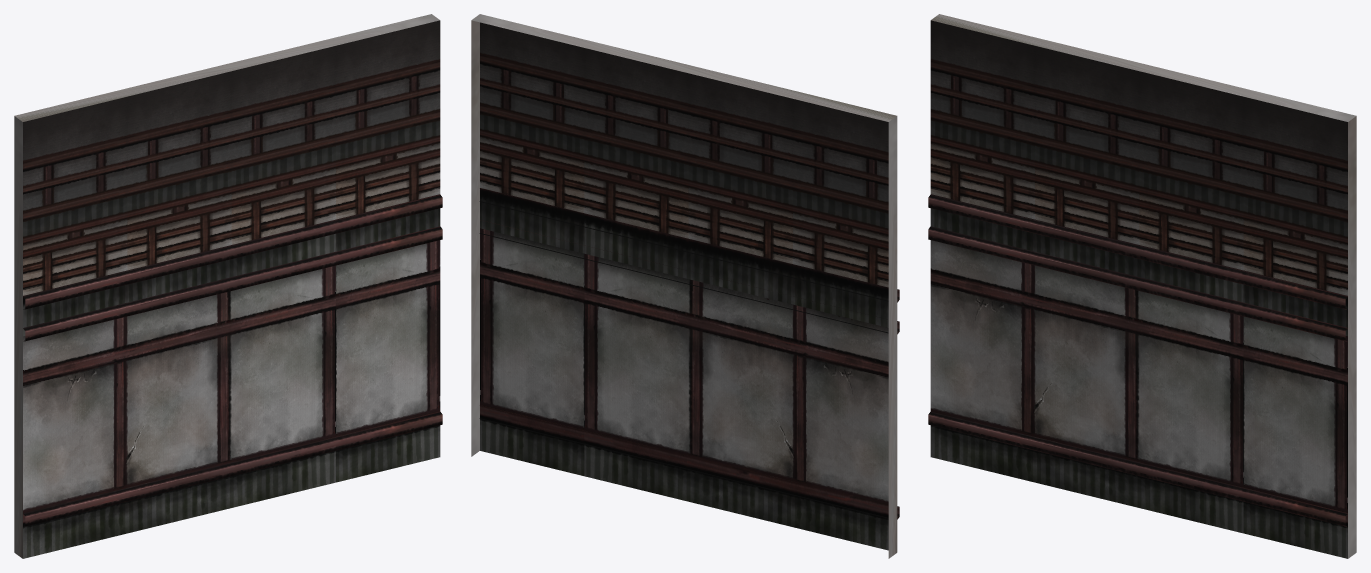
The model's file is STR_WallTempleLong.FBX.
The picture shows the model from 3 angles, left to right: view 1: azimuth 30°, elevation 25°; view 2: azimuth 150°, elevation 25°; view 3: azimuth 330°, elevation 25°; orthographic projection.
Parts seen in each view (by area): view 1: STR_WallTempleLong; view 2: STR_WallTempleLong; view 3: STR_WallTempleLong.
Boxes of the visible parts, <box> form: STR_WallTempleLong: <box>14,14,442,558</box>; STR_WallTempleLong: <box>471,14,899,558</box>; STR_WallTempleLong: <box>928,14,1356,558</box>.
Bounding box in the file's own units: 970 × 970 × 44.16.
